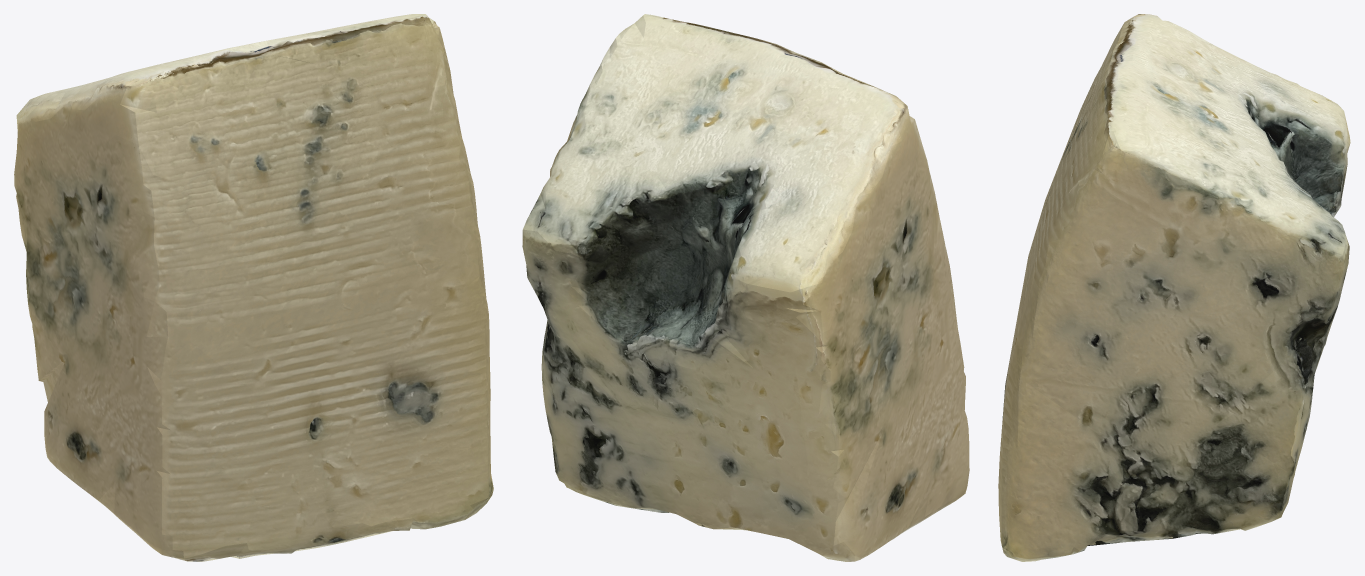
File: blue_cheese.glb
3 views of the same model, side by side, from view 1: azimuth 30°, elevation 25°; view 2: azimuth 150°, elevation 25°; view 3: azimuth 270°, elevation 25° (orthographic). The views are drawn at different scales.
Parts seen in each view (by area): view 1: Object_2, Object_7, Object_3, Object_5, Object_4, Object_9, Object_6, Object_12, Object_10, Object_11, Object_8, Object_13; view 2: Object_11, Object_6, Object_3, Object_9, Object_10, Object_4, Object_8, Object_5, Object_12, Object_13, Object_2, Object_7; view 3: Object_8, Object_12, Object_9, Object_6, Object_2, Object_11, Object_7, Object_13, Object_3, Object_5, Object_10, Object_4.
Part boxes in pixels (box(x1,y1,x2,y2)): Object_2: box(27, 19, 493, 558); Object_7: box(67, 71, 488, 555); Object_3: box(31, 80, 489, 500); Object_5: box(30, 147, 490, 526); Object_4: box(14, 88, 486, 561); Object_9: box(26, 15, 459, 458); Object_6: box(14, 14, 490, 558); Object_12: box(16, 91, 490, 529); Object_10: box(71, 22, 459, 500); Object_11: box(69, 18, 450, 561); Object_8: box(71, 54, 477, 395); Object_13: box(27, 67, 493, 541); Object_11: box(522, 24, 969, 511); Object_6: box(545, 14, 952, 513); Object_3: box(523, 167, 948, 561); Object_9: box(537, 16, 965, 561); Object_10: box(541, 24, 931, 530); Object_4: box(571, 250, 939, 539); Object_8: box(548, 140, 958, 476); Object_5: box(621, 201, 955, 545); Object_12: box(527, 23, 949, 497); Object_13: box(542, 68, 914, 538); Object_2: box(522, 53, 960, 540); Object_7: box(550, 77, 966, 555); Object_8: box(1026, 24, 1305, 538); Object_12: box(1002, 91, 1350, 556); Object_9: box(1031, 50, 1349, 545); Object_6: box(1008, 14, 1321, 557); Object_2: box(1002, 54, 1348, 553); Object_11: box(1026, 43, 1349, 432); Object_7: box(998, 136, 1343, 545); Object_13: box(1002, 17, 1350, 561); Object_3: box(999, 59, 1345, 464); Object_5: box(1001, 202, 1222, 557); Object_10: box(1021, 24, 1314, 534); Object_4: box(1018, 124, 1133, 555).
Bounding box in the file's own units: 1.84 × 2.52 × 1.84.
12 materials, 12 textured.
